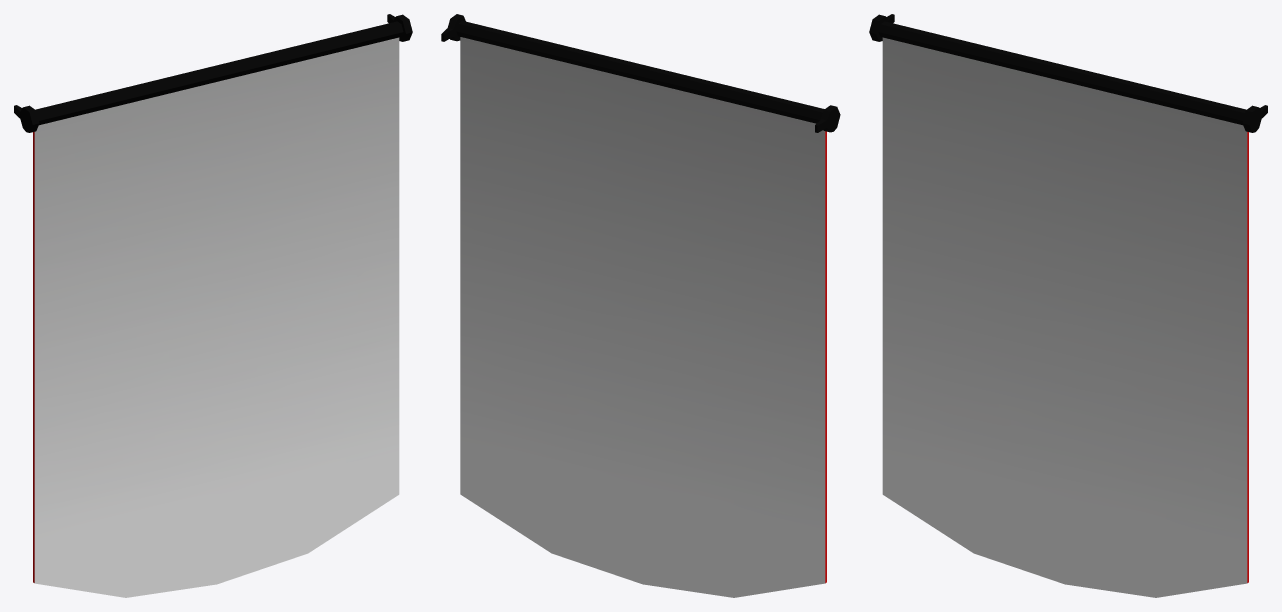
Rendered from Banner_03.fbx.
3 renders of one model, left to right at view 1: azimuth 30°, elevation 25°; view 2: azimuth 150°, elevation 25°; view 3: azimuth 330°, elevation 25°, orthographic.
Parts seen in each view (by area): view 1: Banner_03; view 2: Banner_03; view 3: Banner_03.
Part boxes in pixels (bbox=[...]): Banner_03: bbox=[14, 14, 412, 597]; Banner_03: bbox=[441, 14, 840, 597]; Banner_03: bbox=[869, 14, 1267, 597].
Size of the model in its own units: 115 by 150 by 10.81.
